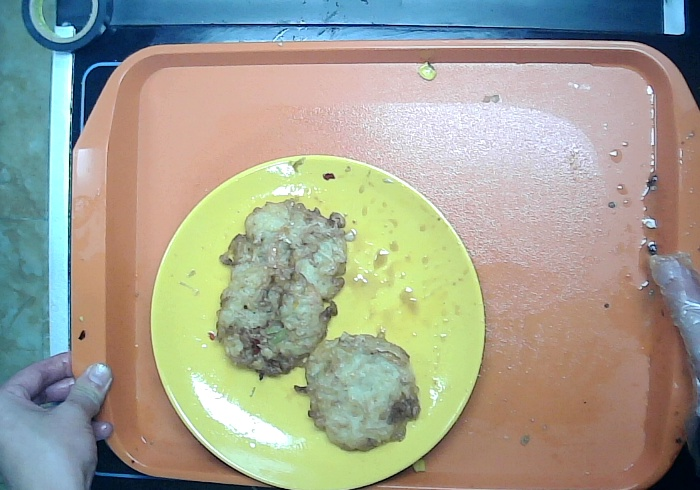HZYJPL-Huang_Se_Yuan_Pan: (149, 153, 486, 490)
